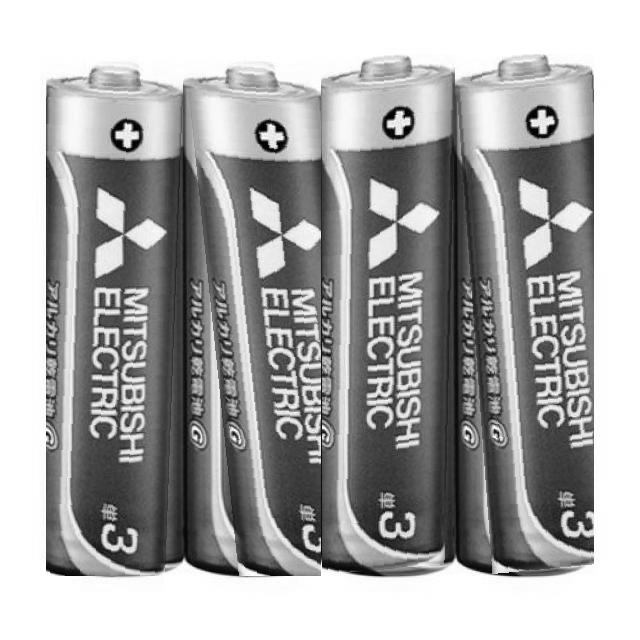battery: (454, 54, 594, 574), (46, 56, 184, 576), (186, 56, 322, 576), (322, 54, 456, 576)
